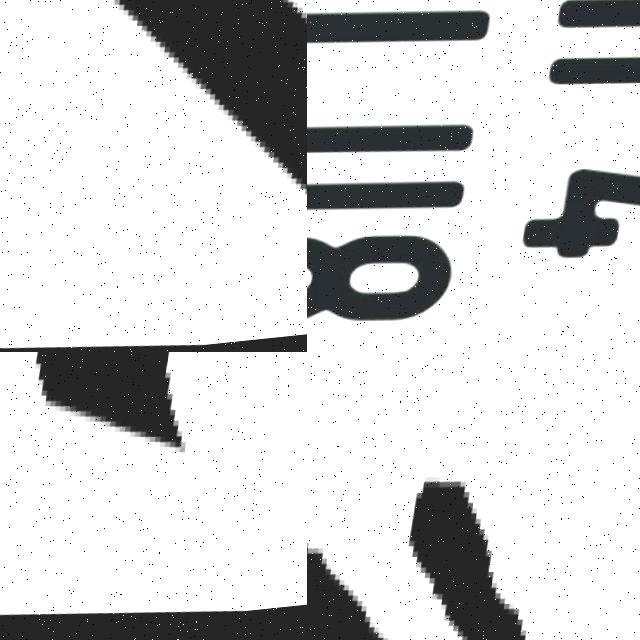2: (307, 352, 625, 640)
4: (525, 151, 640, 287)
8: (307, 213, 467, 350)
C: (0, 352, 307, 615)
L: (307, 0, 500, 124)
P: (542, 44, 640, 175)
U: (307, 102, 481, 233)
V: (25, 0, 307, 342)
